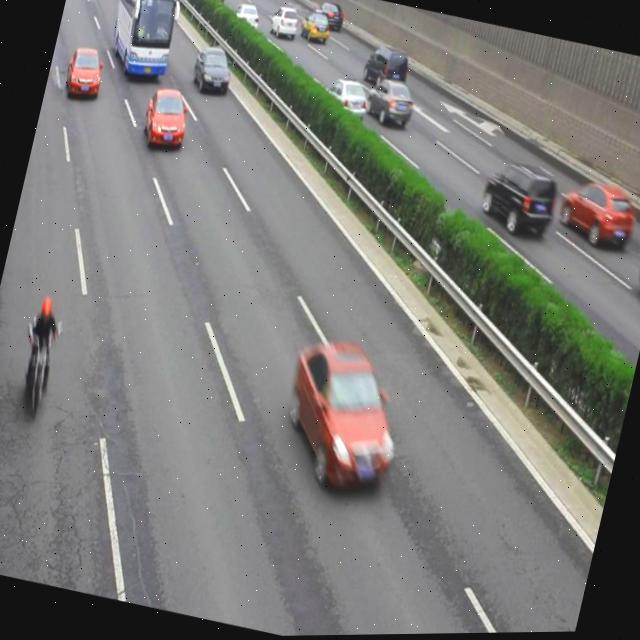car: (270, 334, 410, 499), (552, 174, 638, 258), (476, 156, 560, 241), (138, 85, 192, 153), (362, 74, 418, 133), (61, 41, 108, 101), (320, 77, 370, 125), (189, 47, 232, 99), (266, 3, 300, 42), (298, 9, 333, 45), (312, 0, 346, 33), (233, 2, 261, 33), (631, 251, 640, 308), (203, 0, 228, 5)
truck: (360, 41, 411, 96)
van: (102, 0, 186, 83)
